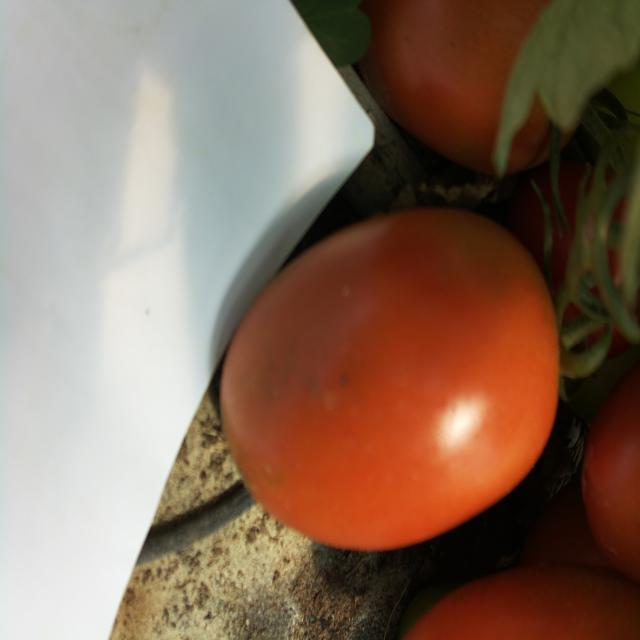kirmizi: (181, 195, 557, 532)
